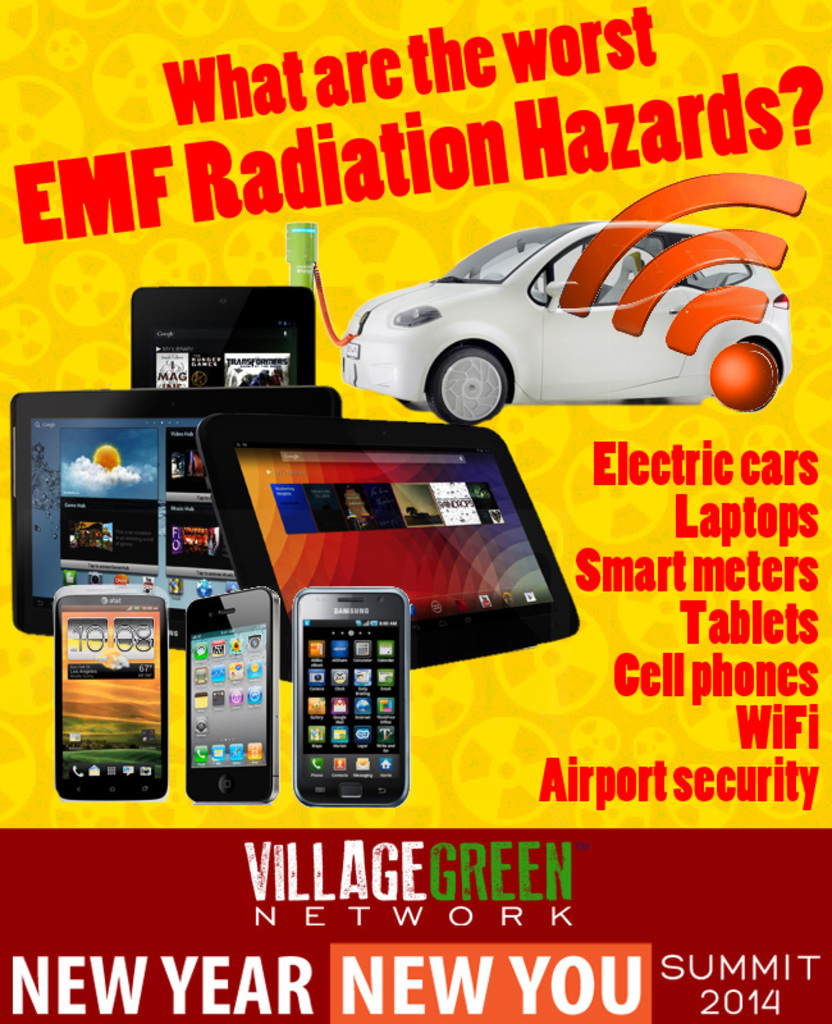Mobile-phone: (54, 576, 173, 804), (296, 585, 408, 812), (183, 584, 278, 804)
